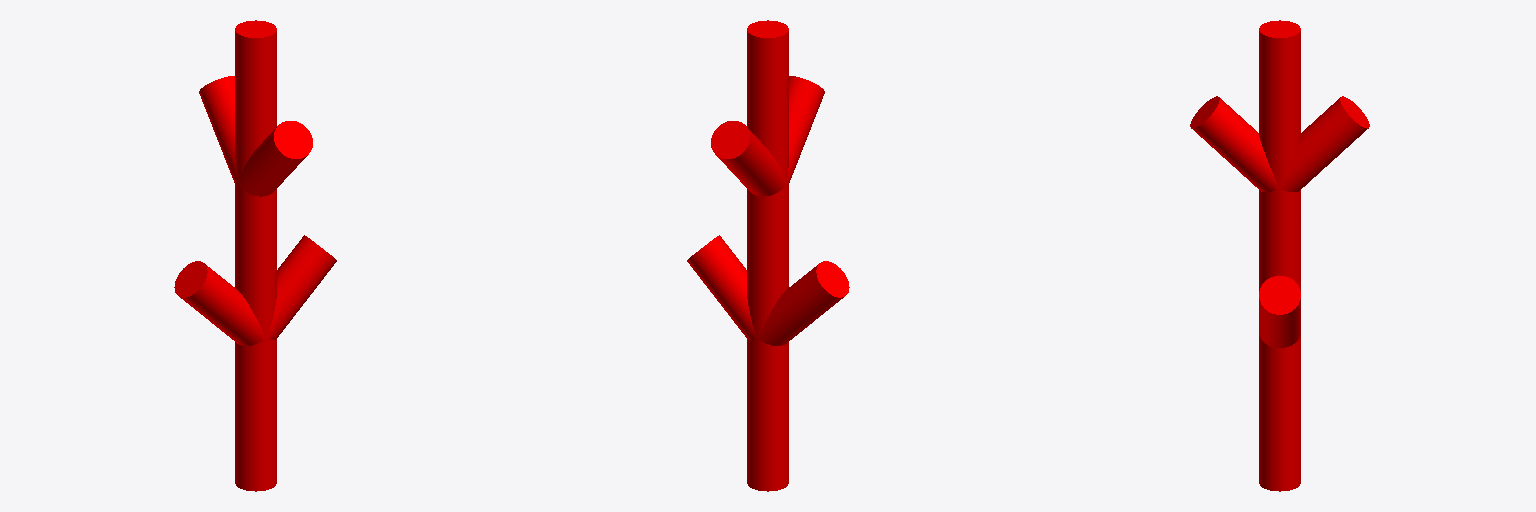
The robot description file, URDF, robot "tree.urdf":
<?xml version="1.0" ?>
<robot name="tree.urdf">
  <link name="baseLink">
    <inertial>
      <origin rpy="0 0 0" xyz="0 0 0"/>
       <mass value=".1"/>
       <inertia ixx="1" ixy="0" ixz="0" iyy="1" iyz="0" izz="1"/>
    </inertial>
    <visual>
      <origin rpy="0 0 0" xyz="0 0 0"/>
      <geometry>
        <mesh filename="0.stl" scale="1 1 1" />
      </geometry>
      <material name="red">
        <color rgba="1 0 0 1"/>
      </material>
    </visual>
    <collision>
      <origin rpy="0 0 0" xyz="0 0 0"/>
      <geometry>
        <mesh filename="0_convex.obj" scale="1 1 1" />
      </geometry>
    </collision>
  </link>
</robot>

--- Facts derived from the render (not from the file) ---
The picture shows the robot from 3 angles, left to right: view 1: azimuth 30°, elevation 25°; view 2: azimuth 150°, elevation 25°; view 3: azimuth 270°, elevation 25°; orthographic projection.
Robot: tree.urdf — 1 links, 0 joints (none); root link baseLink; default pose: every joint at zero.
Links seen in each view (by area): view 1: baseLink; view 2: baseLink; view 3: baseLink.
Boxes of the visible links, left/top/right/bottom form: baseLink: left=174, top=20, right=336, bottom=491; baseLink: left=687, top=20, right=849, bottom=491; baseLink: left=1190, top=20, right=1369, bottom=491.
Size in the robot's own frame: 0.1747 by 0.1747 by 0.4865 metres.
1 mesh visuals loaded from 1 distinct referenced files (1 binary STL).